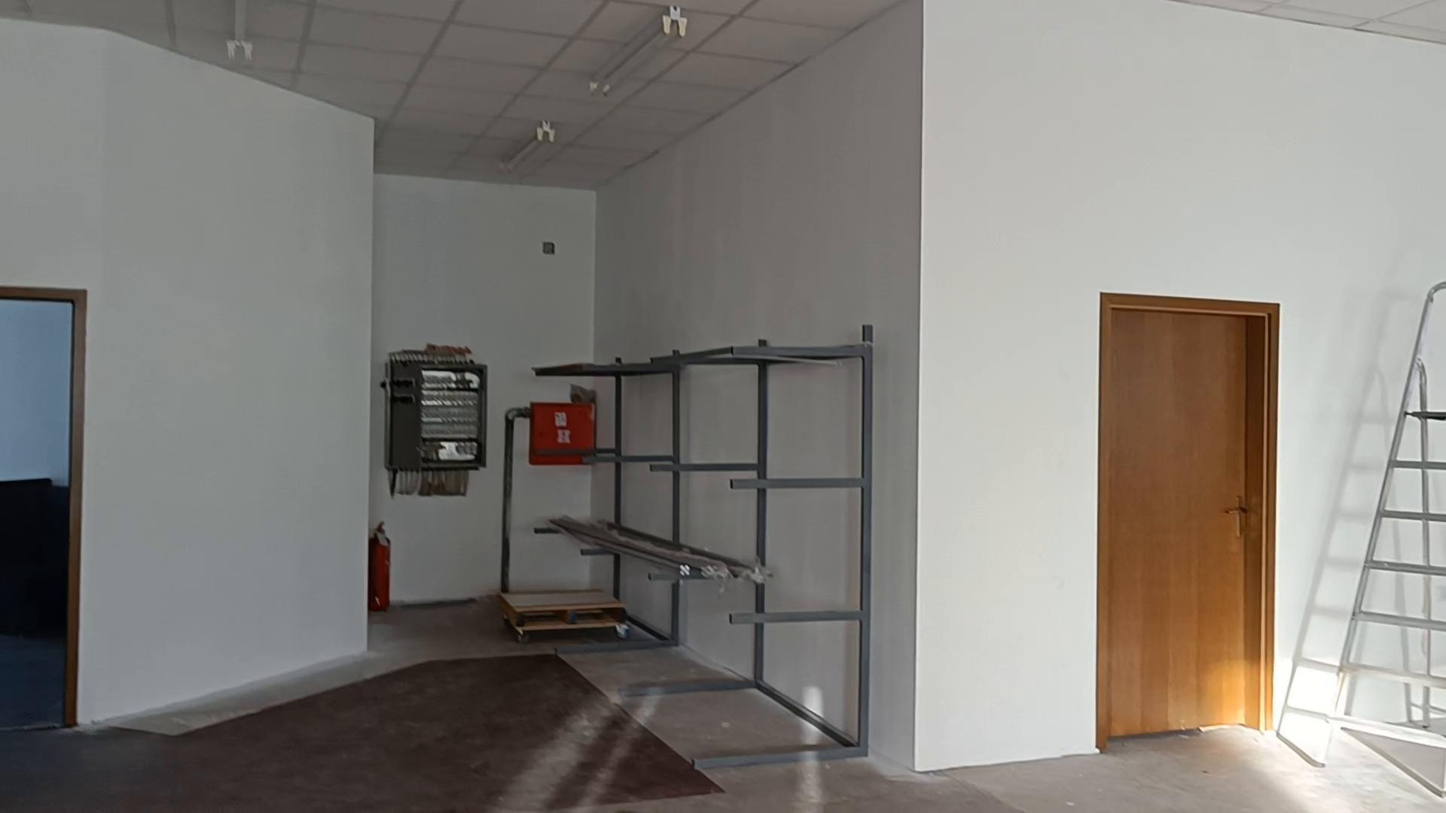ceiling: (0, 0, 904, 188)
floor: (0, 601, 553, 810), (177, 657, 700, 812), (565, 729, 1445, 812), (564, 648, 823, 756)
wall: (0, 1, 1442, 763)
